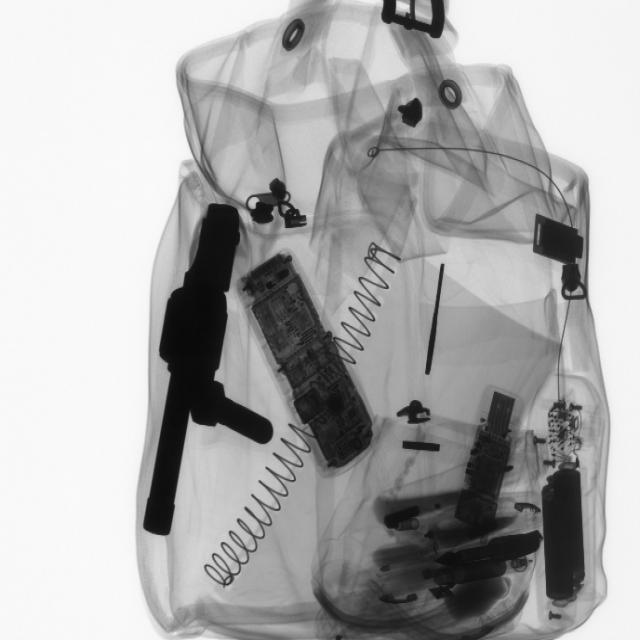GUN: (141, 194, 247, 540)
